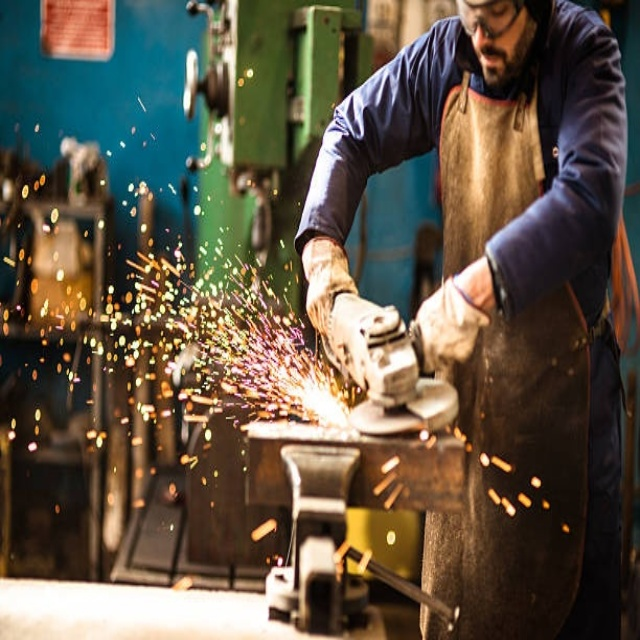Gafas: (458, 0, 524, 40)
Guantes: (303, 241, 367, 363), (413, 271, 491, 367)
Sin_mascara: (473, 44, 508, 86)
